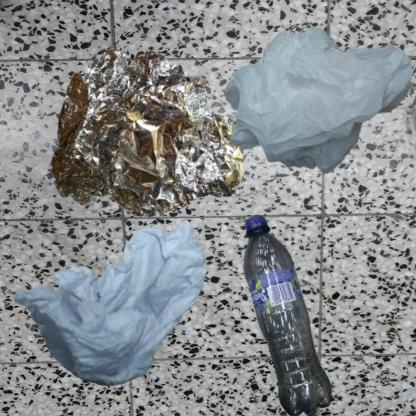aluminio: (10, 10, 287, 284)
bolsa: (213, 10, 416, 198)
botella: (213, 213, 371, 416)
papel: (10, 213, 209, 390)
